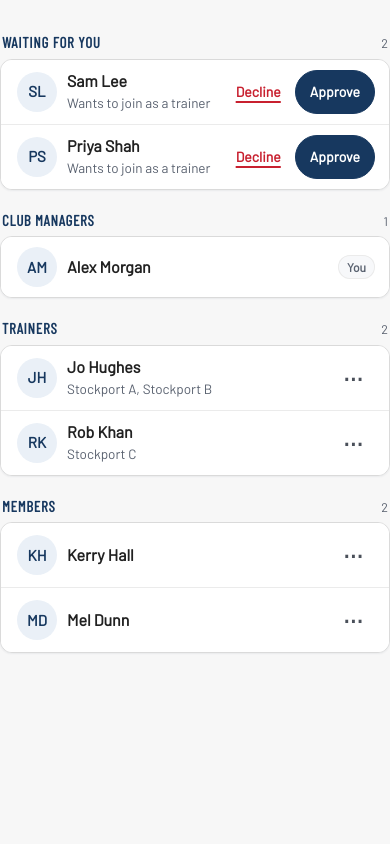
Scenario: MembersPage: a person's menu › offers a club manager only Trainer and Member
Check: the text "Jo Hughes" is shown, box [67, 357, 140, 376]
Click the button "⋯" next to "Stockport A, Stockport B" at point(353, 378), box [331, 356, 375, 400]
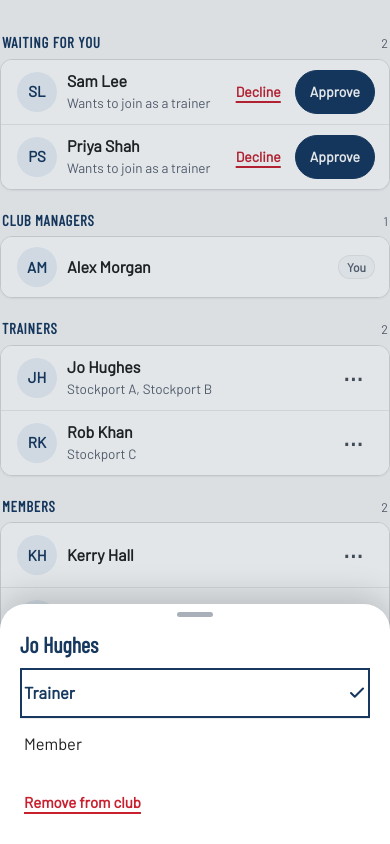
Check: the radio buttons read "Trainer", "Member", in this order, box [20, 668, 370, 718]; [20, 718, 370, 768]
